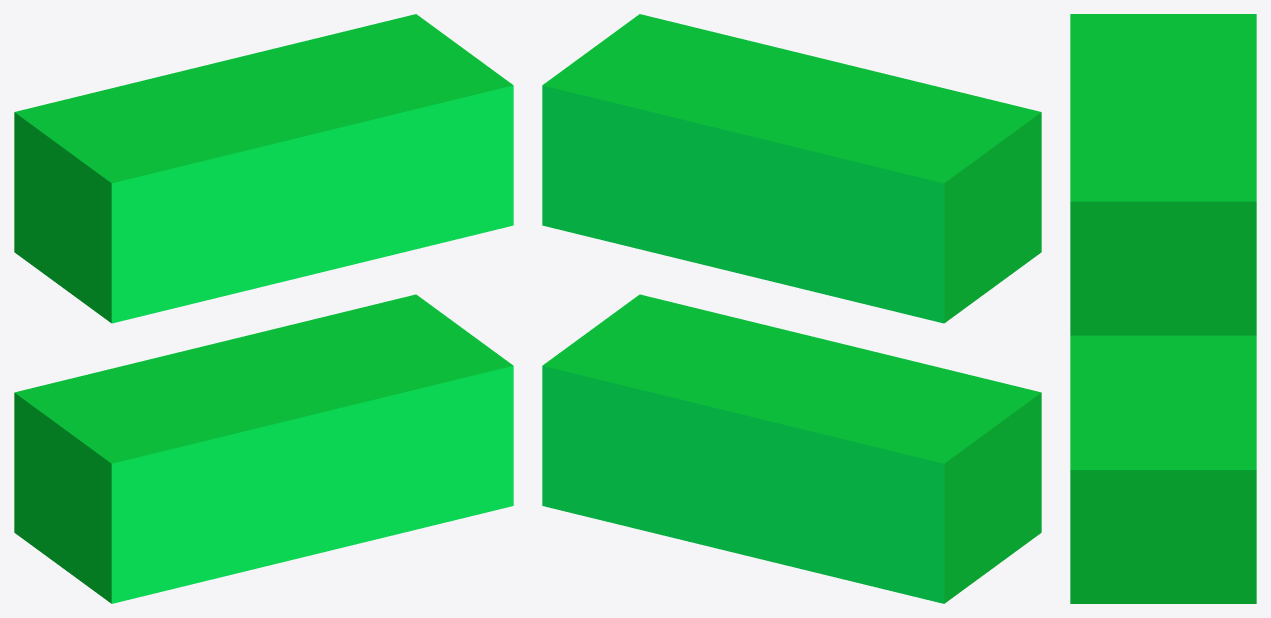
3 views of the same model, side by side, from view 1: azimuth 30°, elevation 25°; view 2: azimuth 150°, elevation 25°; view 3: azimuth 270°, elevation 25° (orthographic). The views are drawn at different scales.
Parts seen in each view (by area): view 1: =_DeltaBlock_Green; view 2: =_DeltaBlock_Green; view 3: =_DeltaBlock_Green.
Part boxes in pixels (box(x1,y1,x2,y2)): =_DeltaBlock_Green: box(14, 14, 513, 603); =_DeltaBlock_Green: box(542, 14, 1041, 603); =_DeltaBlock_Green: box(1070, 14, 1256, 603).
Size of what is drawn, in the model's own units: 0.1071 by 0.1071 by 0.045.
Materials: 2 (2 with a texture image).
